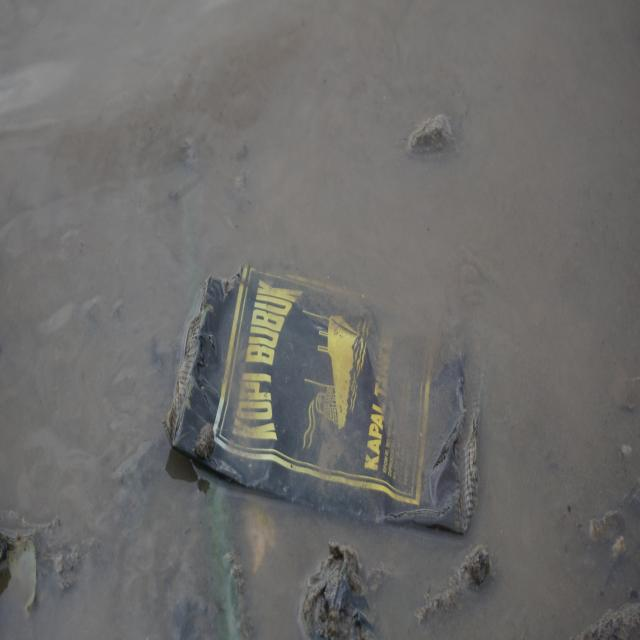Bungkus Minuman: (166, 254, 486, 540)
